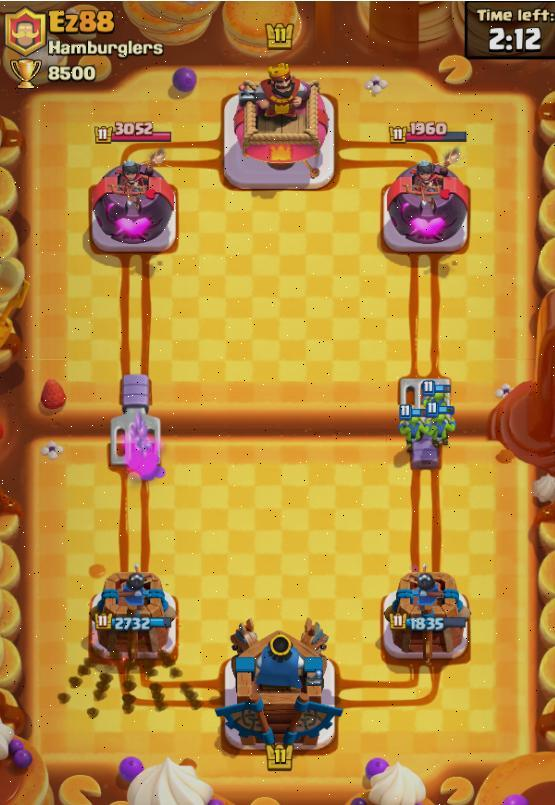EKingTower: (223, 64, 335, 190)
EnemyPrincessTower: (382, 161, 469, 253), (90, 160, 175, 253)
OGoblin: (399, 407, 429, 449), (423, 380, 454, 417), (423, 412, 455, 447)
OwnKingTower: (216, 619, 341, 750)
OwnPrincessTower: (382, 572, 469, 661), (90, 570, 176, 659)
